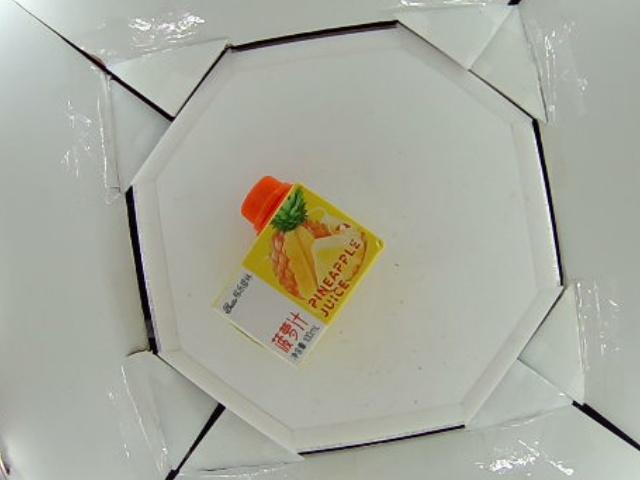Bottle: (213, 172, 384, 369)
